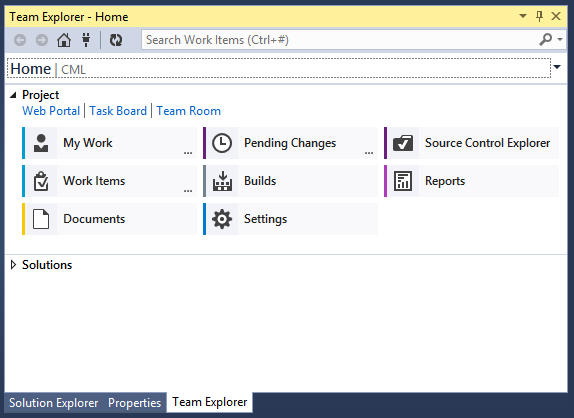searchIcon: (535, 30, 554, 50)
